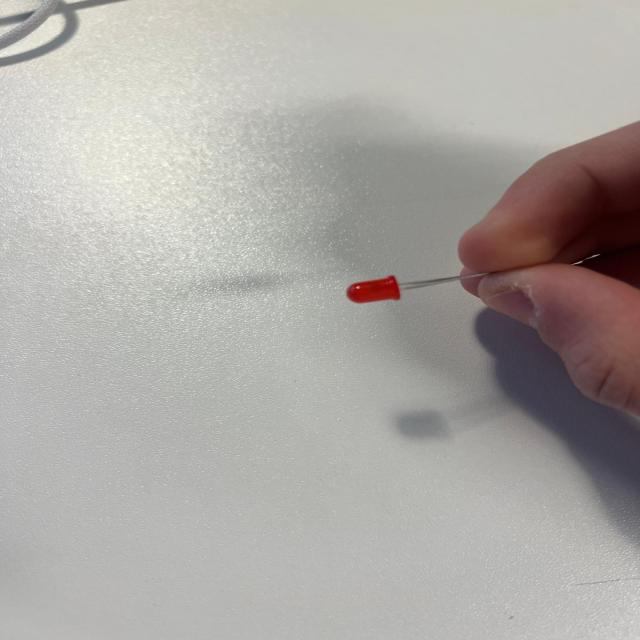REDLed: (302, 217, 482, 310)
